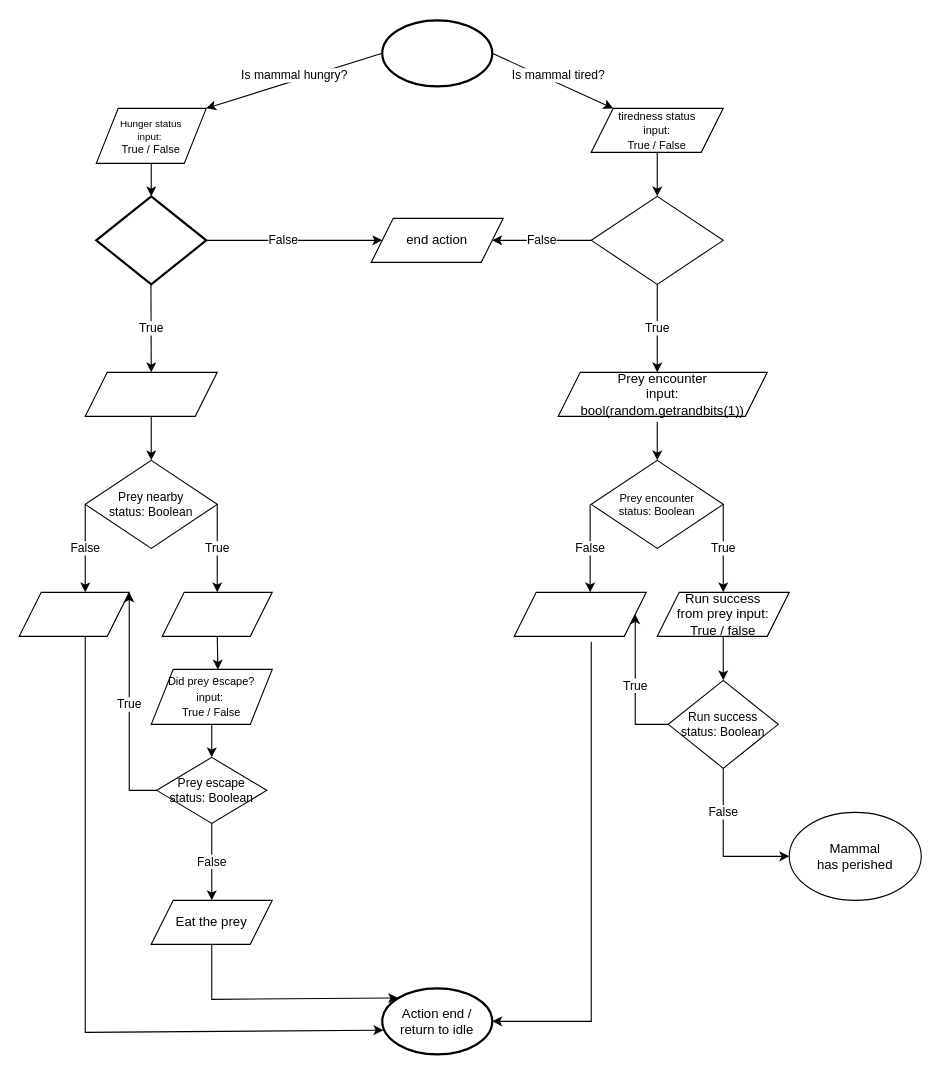
Some shapes in this 941 by 1074 pixel diagram are drawn without their labels. The shapes that lost their labels are listed below. From the top down, each one's centre as x and y in pixels, then its label:
(437,53): Idle
(151,240): Hunger status: Boolean
(656,239): tiredness status: Boolean
(150,393): Scan for prey input: True / False
(73,613): Scavenge food from environment
(216,613): Hunt prey
(579,613): Mammal is resting
